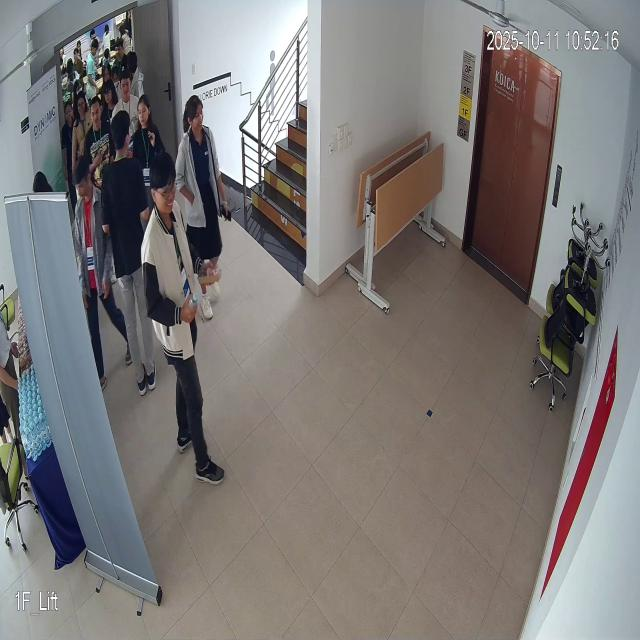face: (148, 139, 182, 226)
